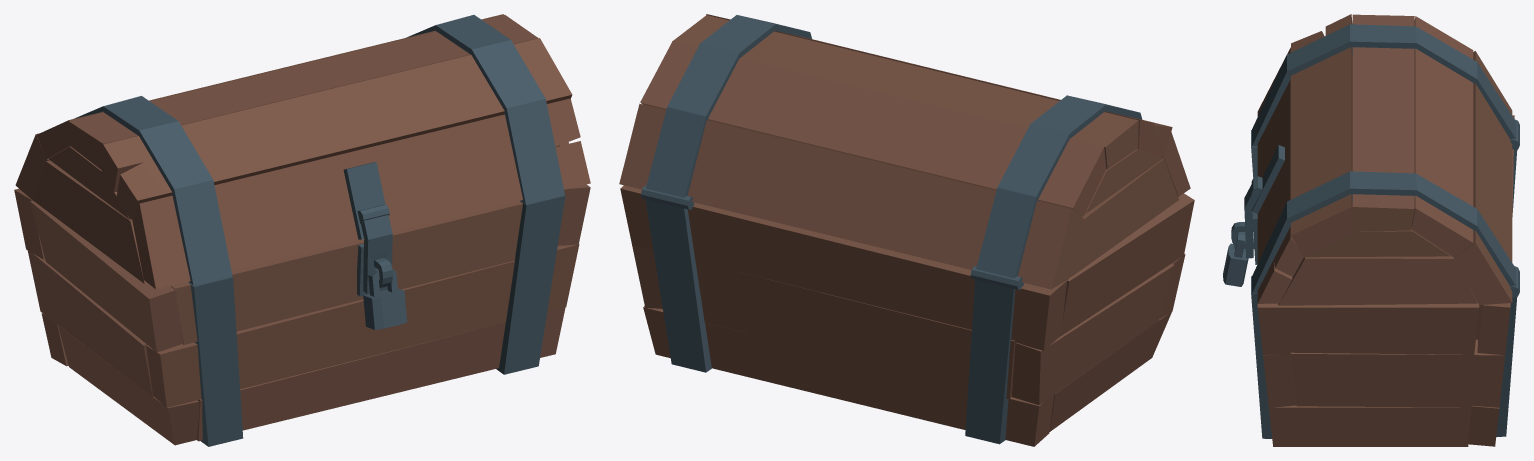
The model's file is cofre.glb.
The picture shows the model from 3 angles, left to right: view 1: azimuth 30°, elevation 25°; view 2: azimuth 150°, elevation 25°; view 3: azimuth 270°, elevation 25°; orthographic projection. The views are drawn at different scales.
Parts seen in each view (by area): view 1: tapa, base; view 2: tapa, base; view 3: tapa, base.
Boxes of the visible parts, x1,y1,x2,y2 form: tapa: [15, 14, 590, 329]; base: [14, 184, 590, 446]; tapa: [619, 14, 1190, 289]; base: [620, 185, 1194, 446]; tapa: [1223, 14, 1519, 305]; base: [1241, 115, 1517, 446].
Bounding box in the file's own units: 0.7181 × 0.4458 × 0.4616.
